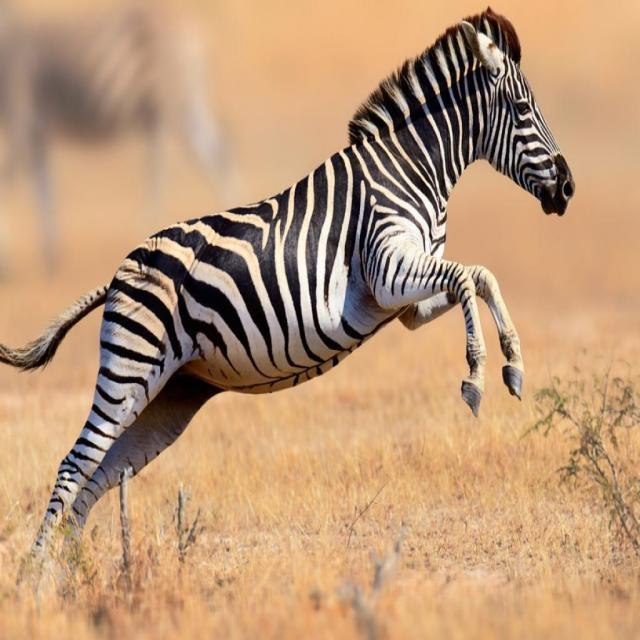Zebra: (7, 5, 602, 588)
